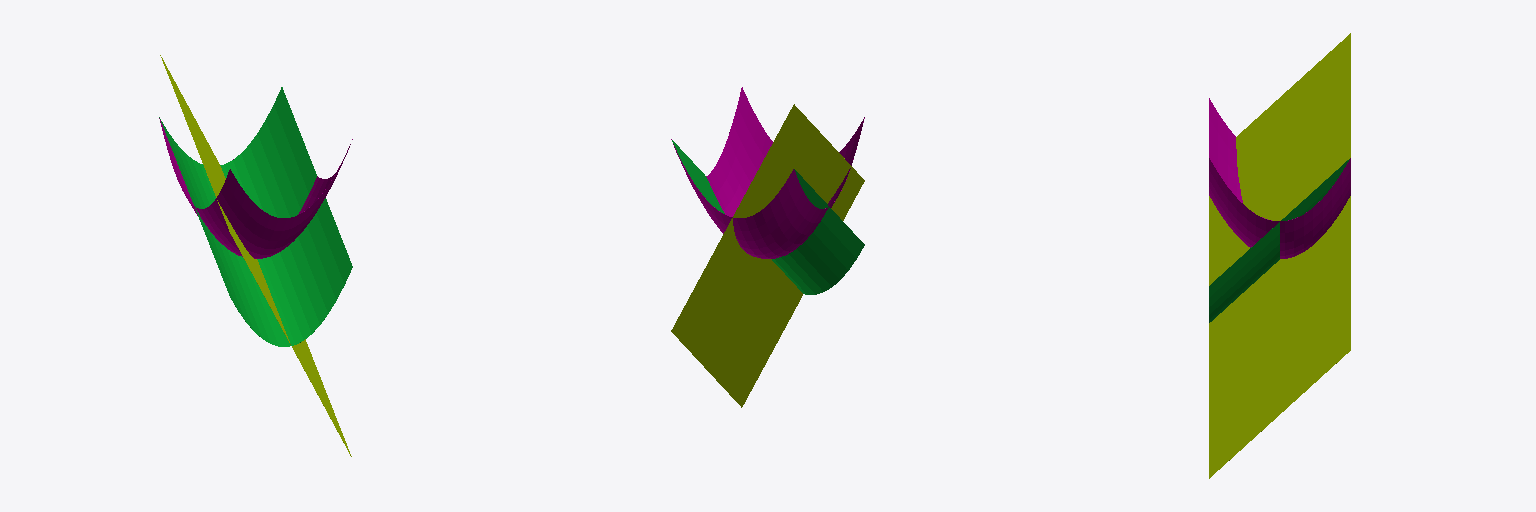
The model's file is Graph.obj.
3 renders of one model, left to right at view 1: azimuth 30°, elevation 25°; view 2: azimuth 150°, elevation 25°; view 3: azimuth 270°, elevation 25°, orthographic.
Parts seen in each view (by area): view 1: Z_Function.002, Z_Function.001, Z_Function.003; view 2: Z_Function.003, Z_Function.001, Z_Function.002; view 3: Z_Function.003, Z_Function.001, Z_Function.002.
Part boxes in pixels (x1,y1,x2,y2): Z_Function.002: (159, 87, 352, 346); Z_Function.001: (159, 118, 352, 258); Z_Function.003: (160, 55, 351, 456); Z_Function.003: (671, 104, 864, 407); Z_Function.001: (671, 87, 864, 258); Z_Function.002: (672, 140, 864, 294); Z_Function.003: (1209, 33, 1350, 478); Z_Function.001: (1209, 98, 1350, 258); Z_Function.002: (1209, 159, 1349, 322).
Size of the model in its own units: 2 by 6 by 2.